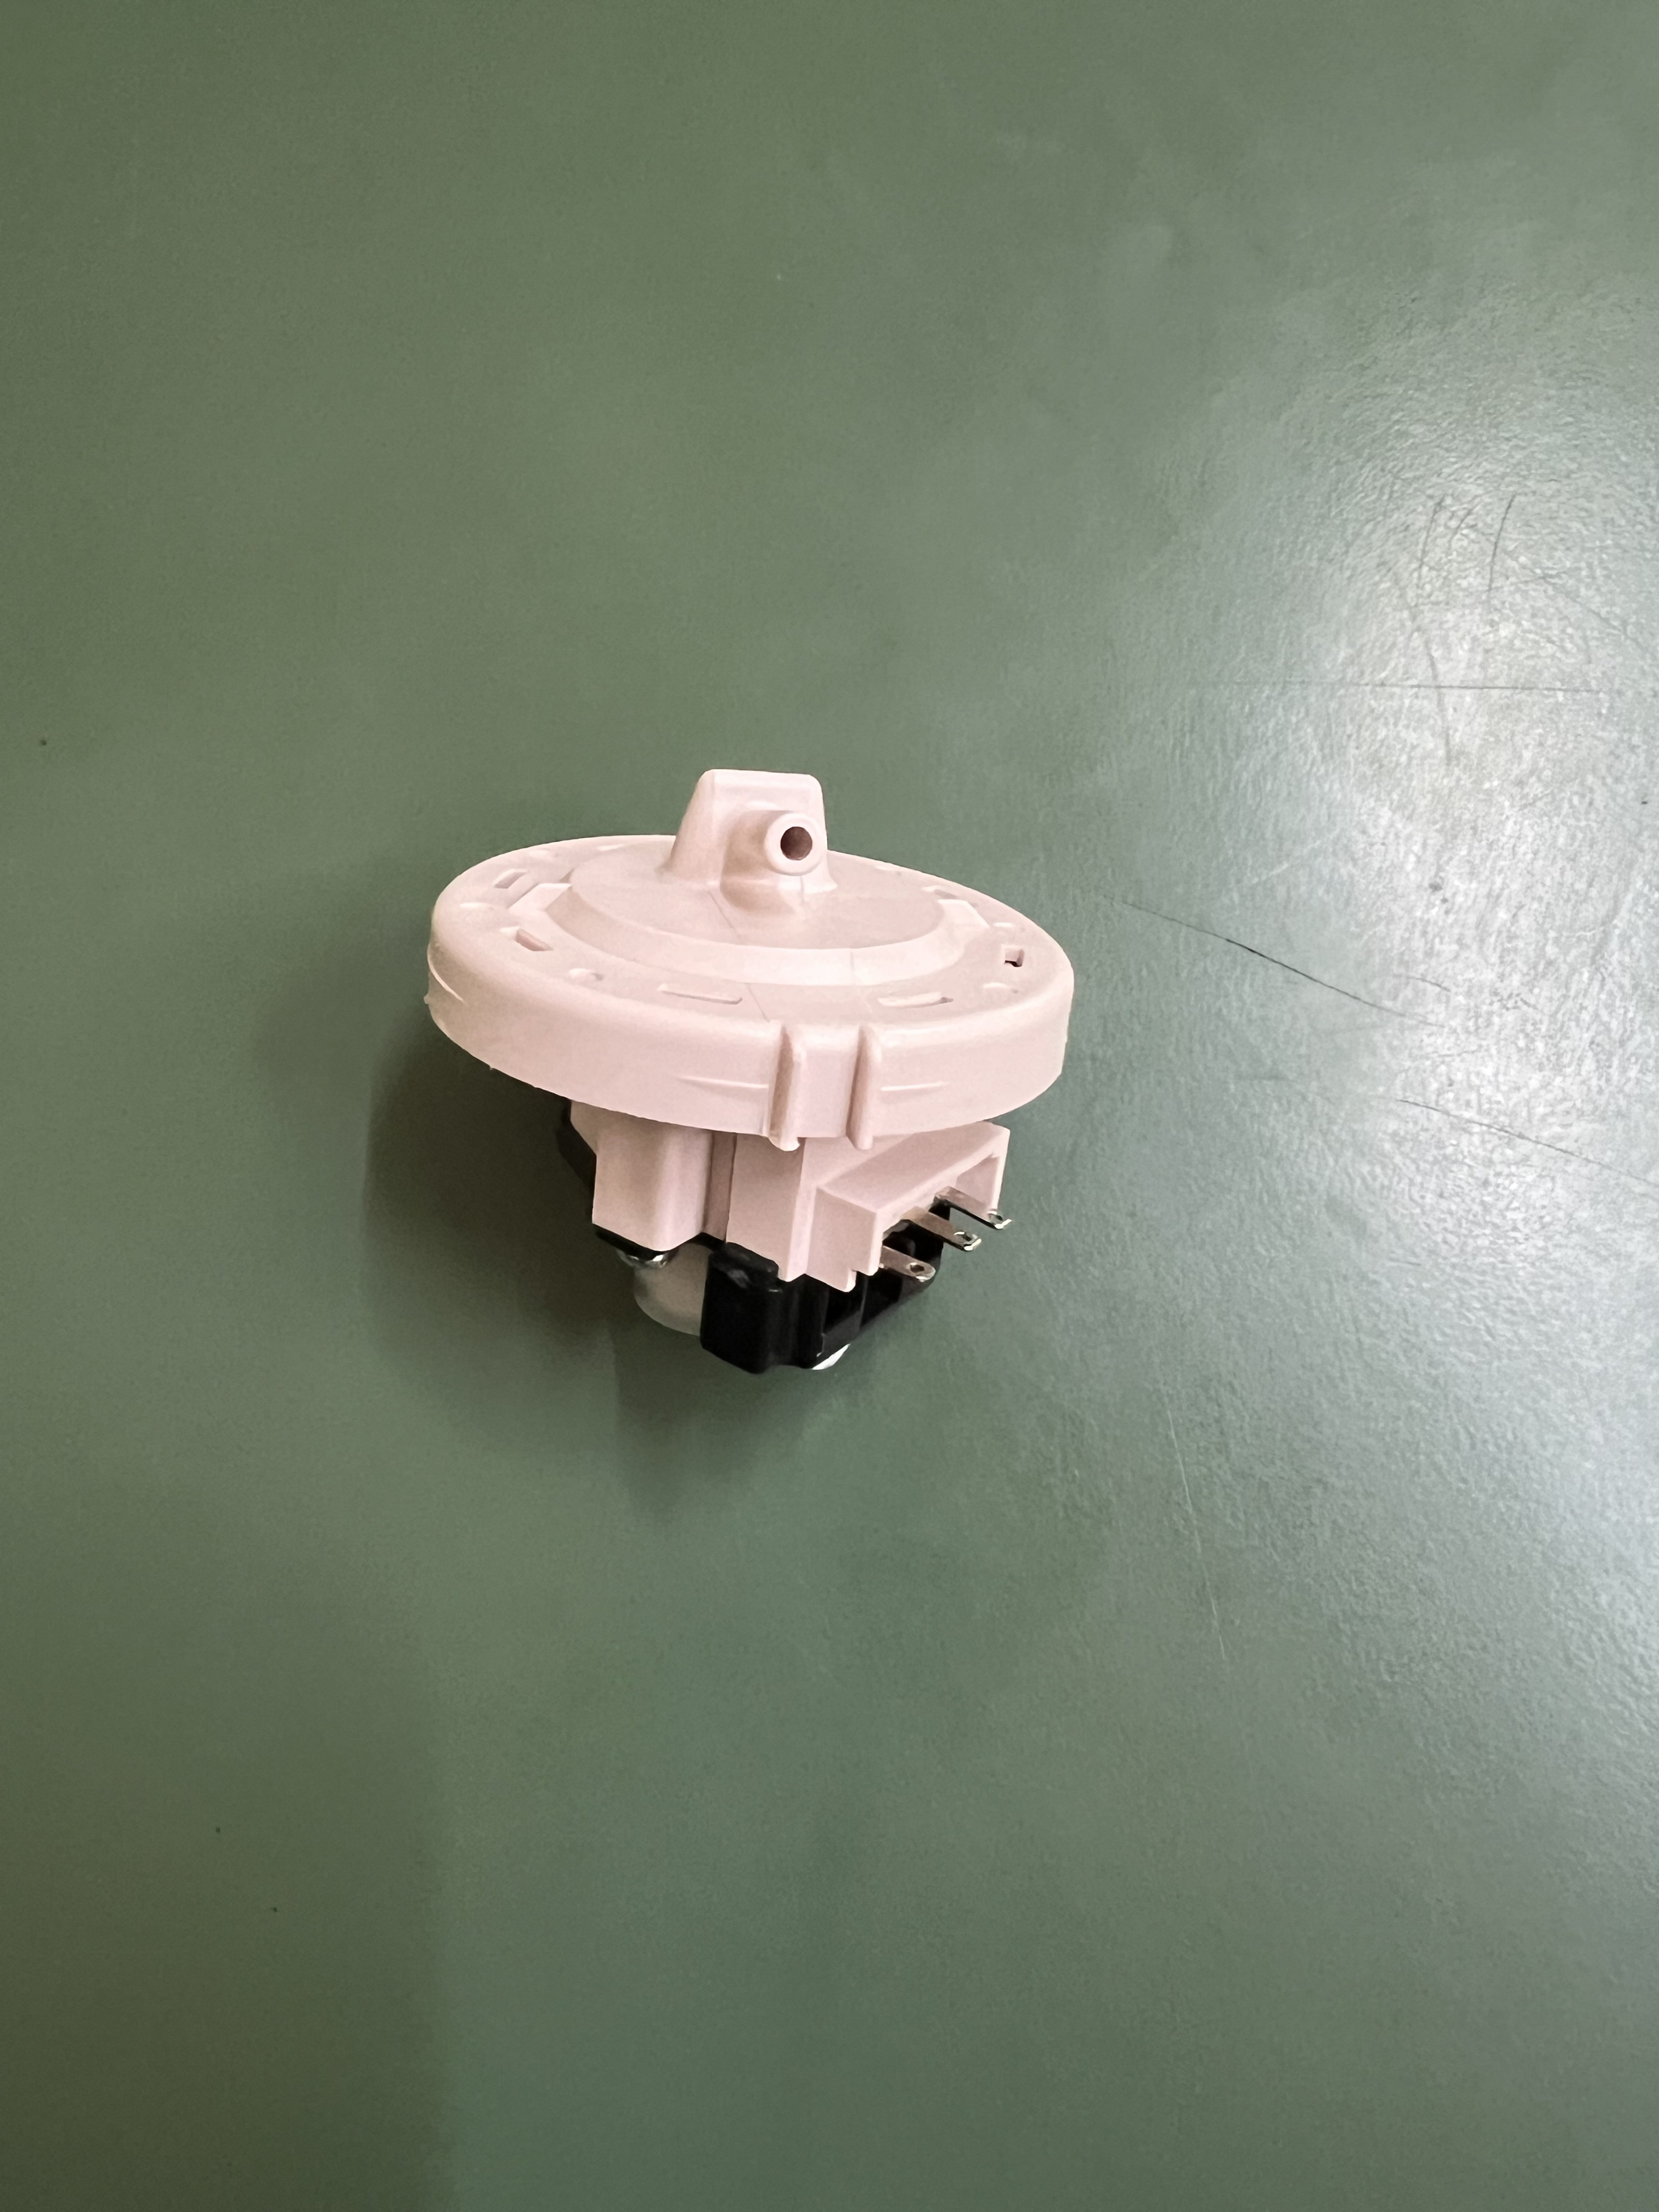pressure_sensor: (373, 763, 1077, 1379)
